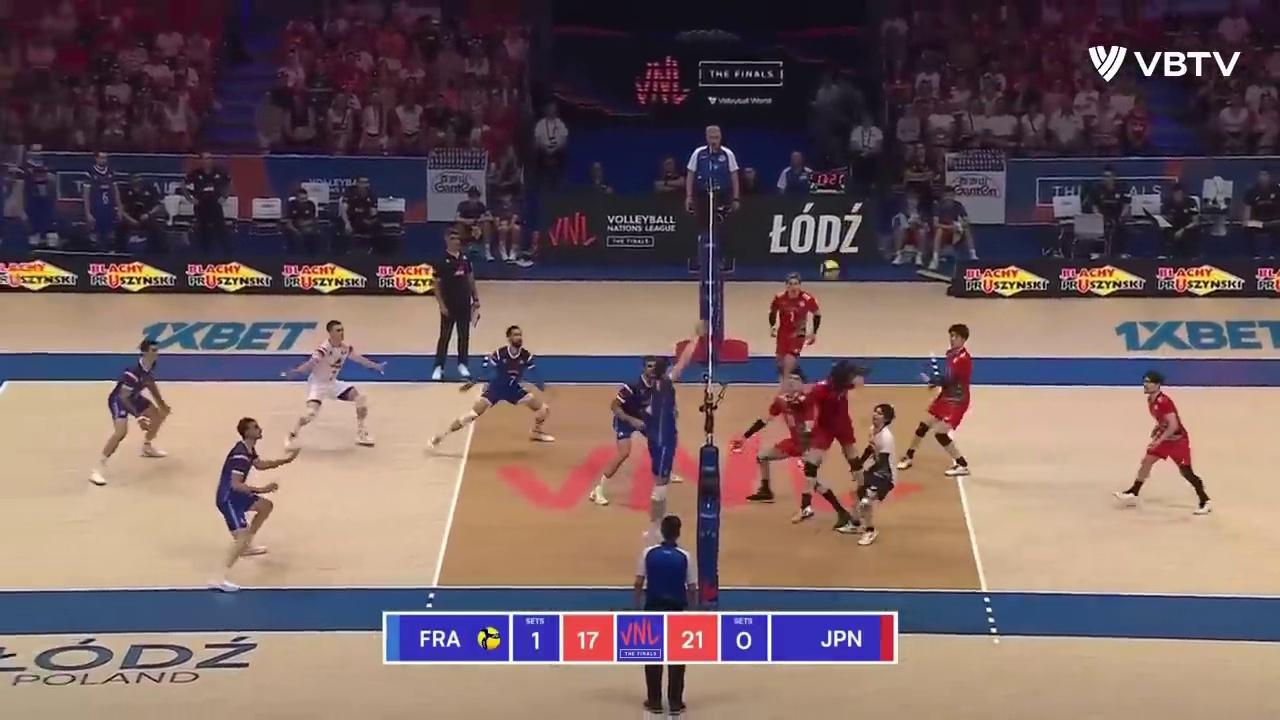ball: (821, 261, 840, 280)
